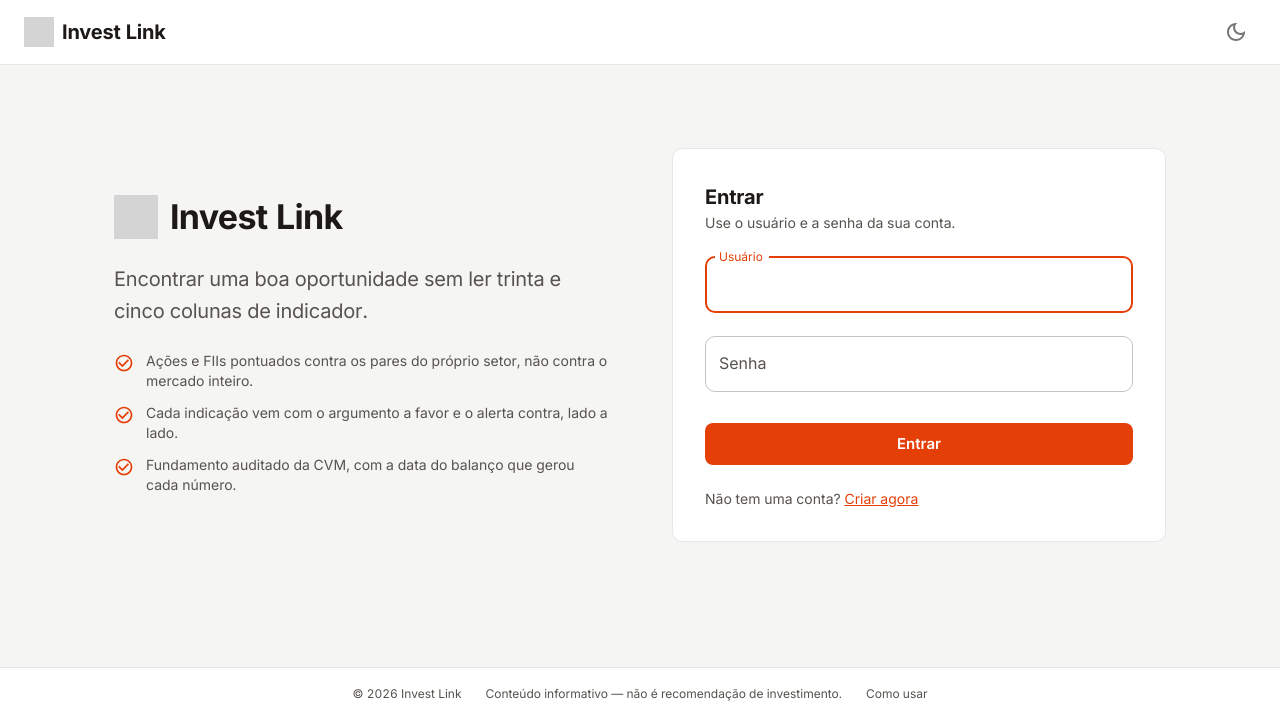
Test case: Autenticação › login com credenciais inválidas exibe mensagem de erro
Type "errado" into the field named "login". click: (919, 285)
box: [705, 257, 1133, 313]
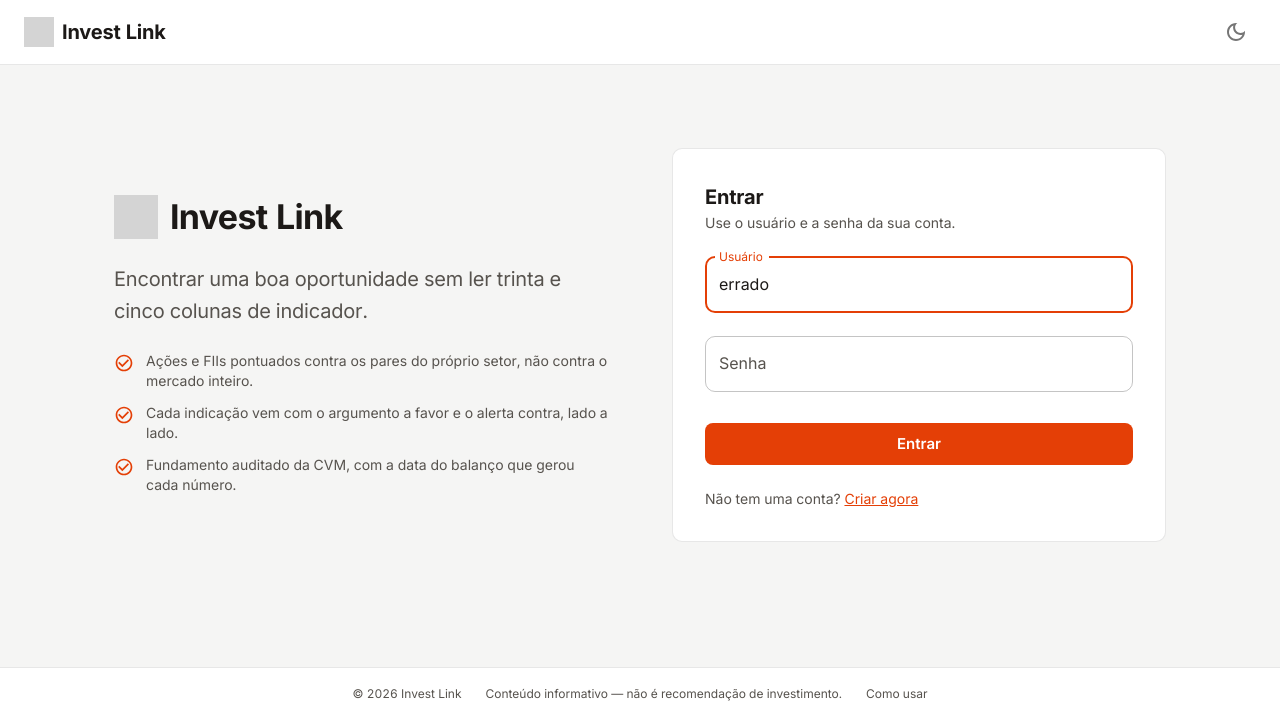
Type "errado" into the password field named "password". click: (919, 364)
box: [705, 336, 1133, 392]
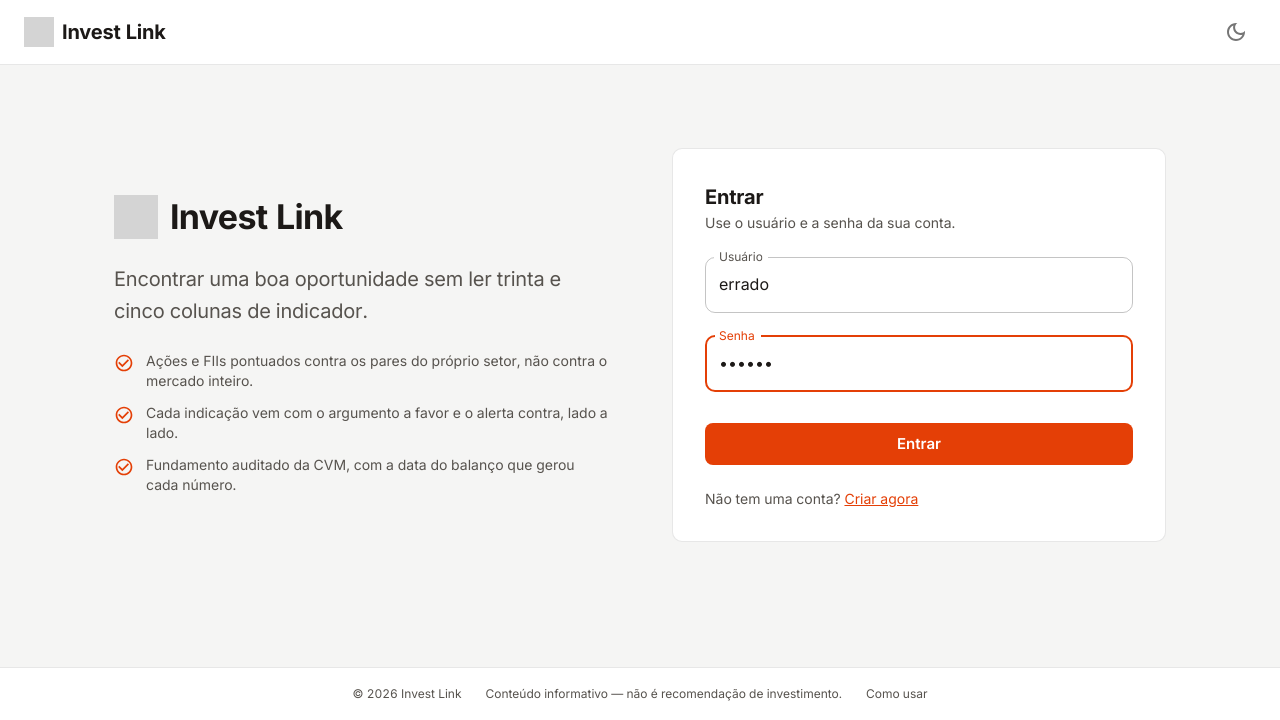
Click the submit button. click: (919, 444)
box: [705, 423, 1133, 465]
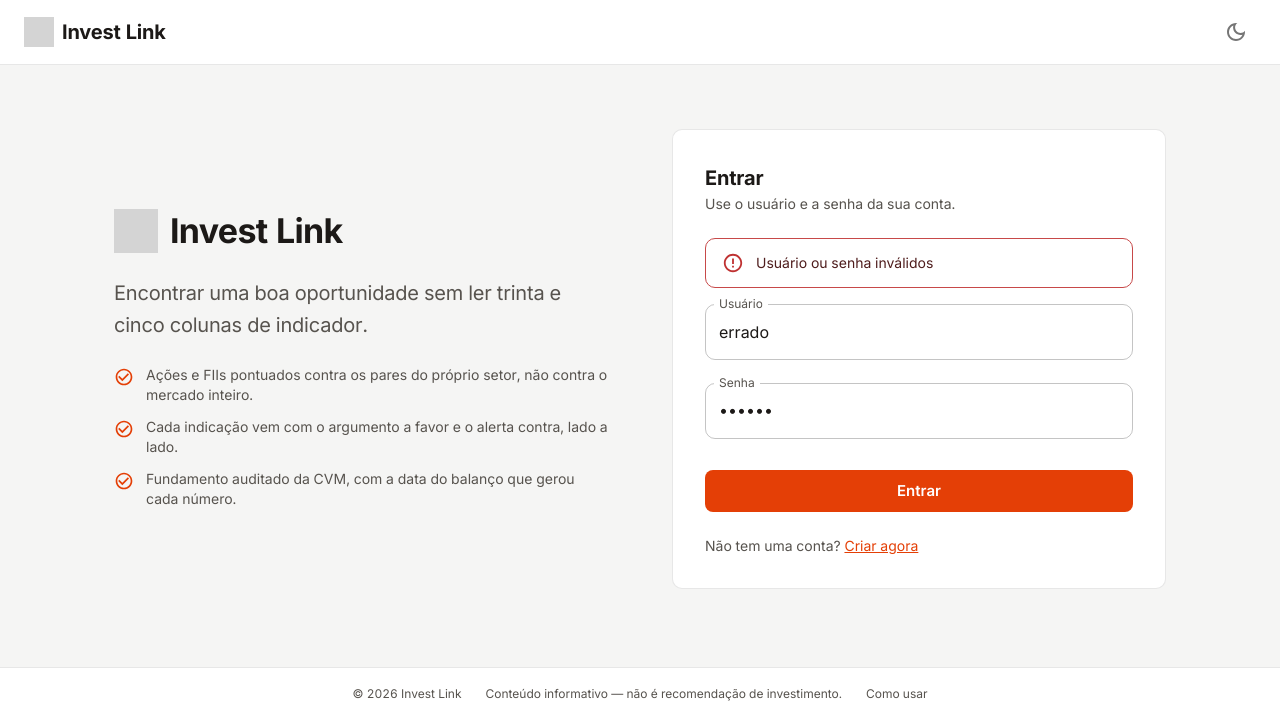
Now the message "Usuário ou senha inválidos" is shown, box [705, 238, 1133, 288]
